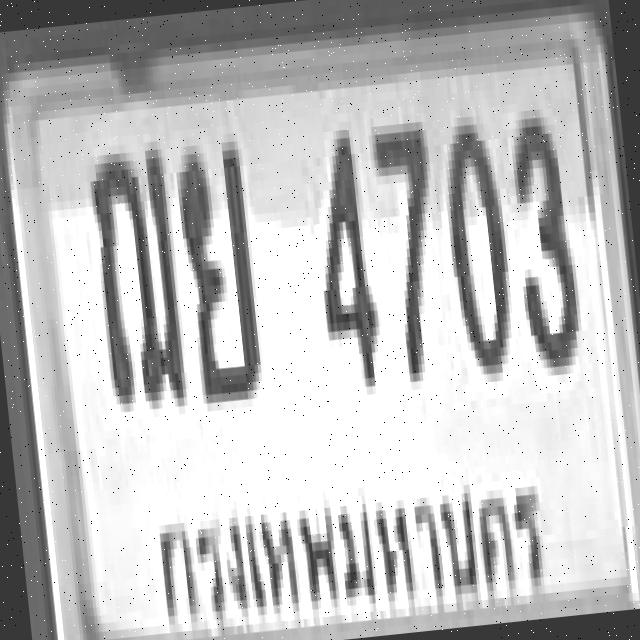0: (437, 115, 514, 368)
21ChorChoe: (84, 140, 186, 404)
3: (501, 108, 582, 370)
4: (303, 120, 381, 382)
43YorYak: (170, 132, 262, 396)
7: (366, 113, 444, 374)
Bangkok: (141, 450, 557, 640)
